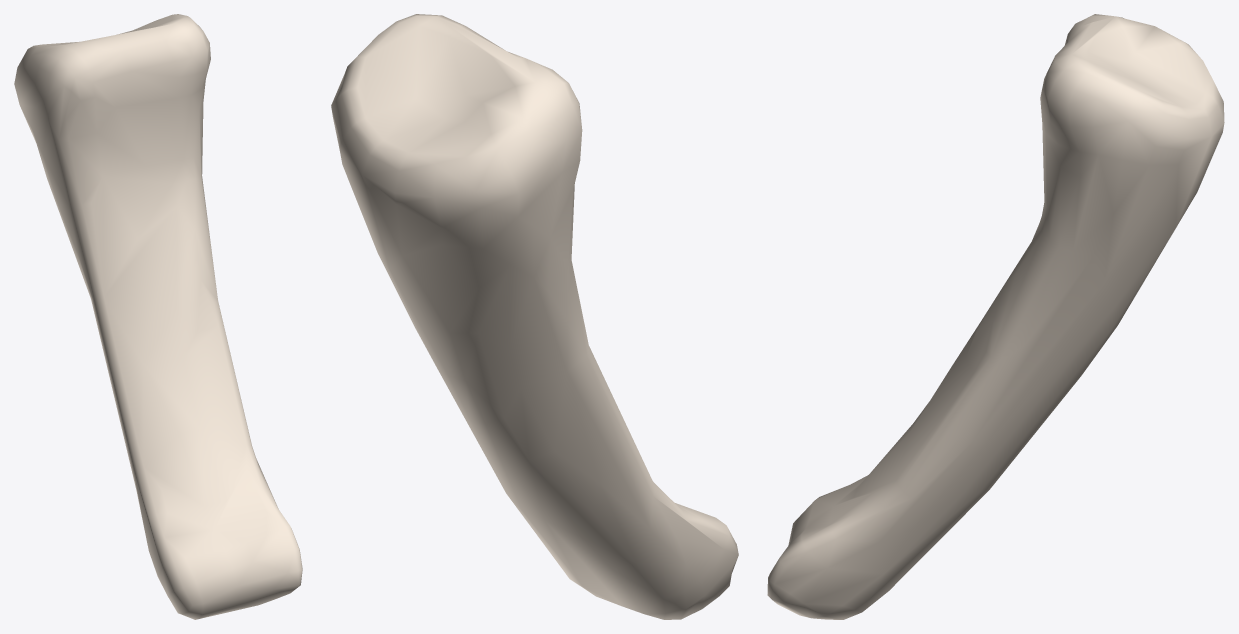
The model's file is right_digit_4_proximal.glb.
3 views of the same model, side by side, from view 1: azimuth 30°, elevation 25°; view 2: azimuth 150°, elevation 25°; view 3: azimuth 270°, elevation 25° (orthographic). The views are drawn at different scales.
Visible parts, largest first — view 1: Proximal phalanx of 4th finger.r; view 2: Proximal phalanx of 4th finger.r; view 3: Proximal phalanx of 4th finger.r.
Boxes of the visible parts, <box> form: Proximal phalanx of 4th finger.r: <box>14,14,302,619</box>; Proximal phalanx of 4th finger.r: <box>331,14,738,619</box>; Proximal phalanx of 4th finger.r: <box>767,14,1224,619</box>.
Size of the model in its own units: 0.01 by 0.0295 by 0.0209.
